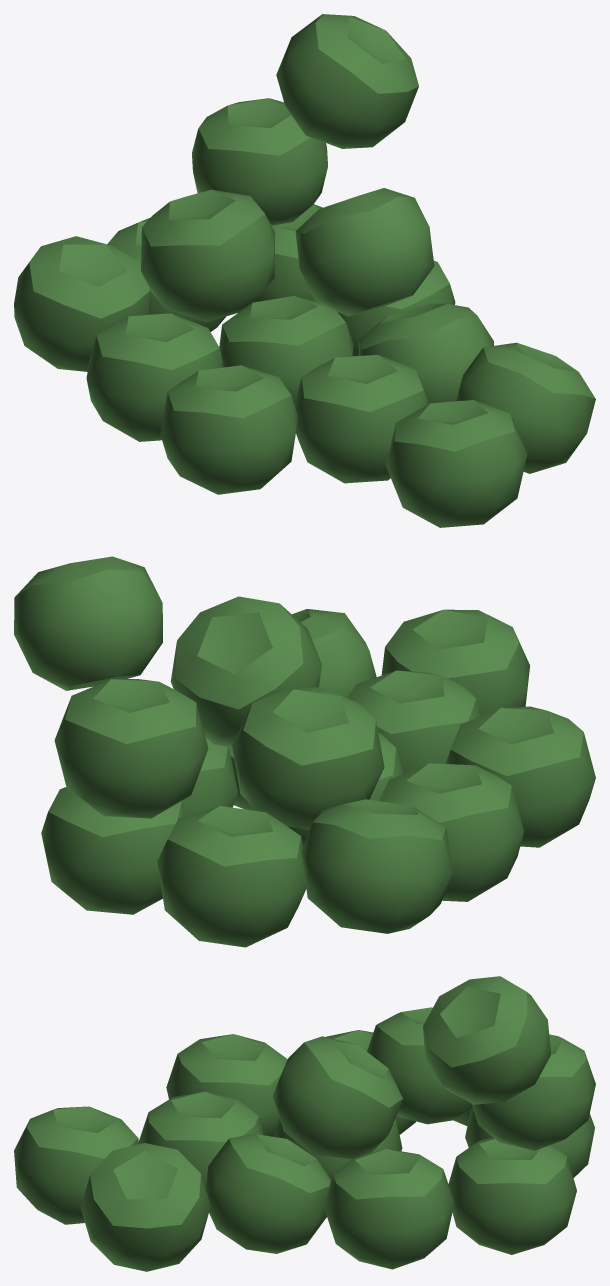
The model's file is SM_Apple_A.fbx.
The picture shows the model from 3 angles, top to bottom: view 1: azimuth 30°, elevation 25°; view 2: azimuth 150°, elevation 25°; view 3: azimuth 270°, elevation 25°; orthographic projection. The views are drawn at different scales.
Visible parts, largest first — view 1: Icosphere.002; view 2: Icosphere.002; view 3: Icosphere.002.
Boxes of the visible parts, x1,y1,x2,y2 form: Icosphere.002: (14,14,595,527); Icosphere.002: (14,556,595,947); Icosphere.002: (14,976,595,1271).
Size of the model in its own units: 37.57 by 28.59 by 53.53.
